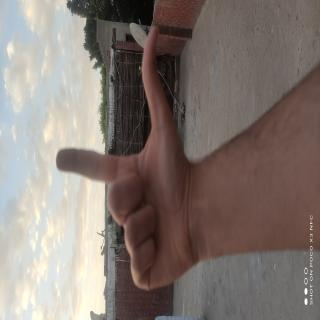LAAM: (9, 111, 134, 320)
